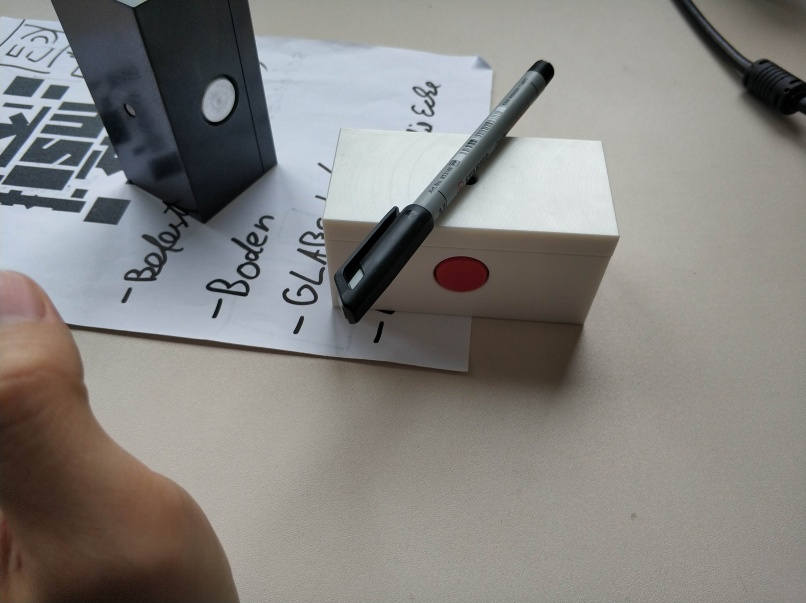black+black+silver: (45, 1, 281, 226)
white+white+red: (319, 123, 623, 329)
